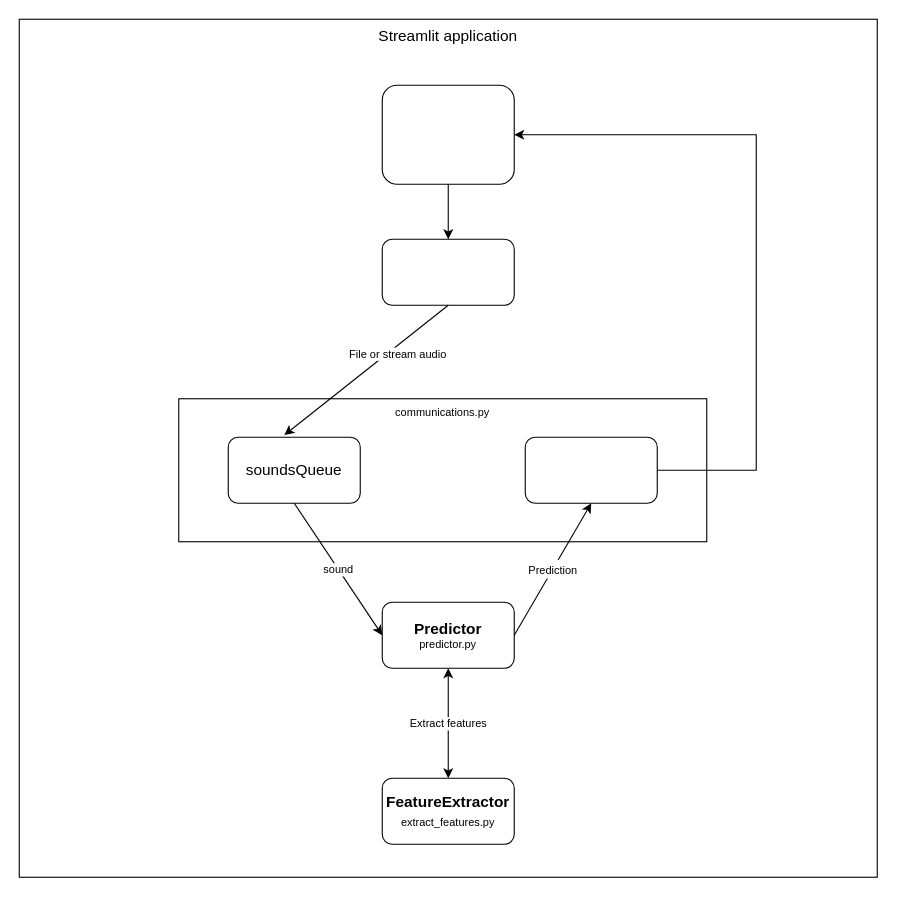
Some shapes in this 897 by 897 pixel diagram are drawn without their labels. The centre of each missing label's shape, as x and y in pixels:
predictQueue: the point at 590,469
SoundHelper sound_utils.py: the point at 447,271
webrtc streamlit_app.py: the point at 447,134
